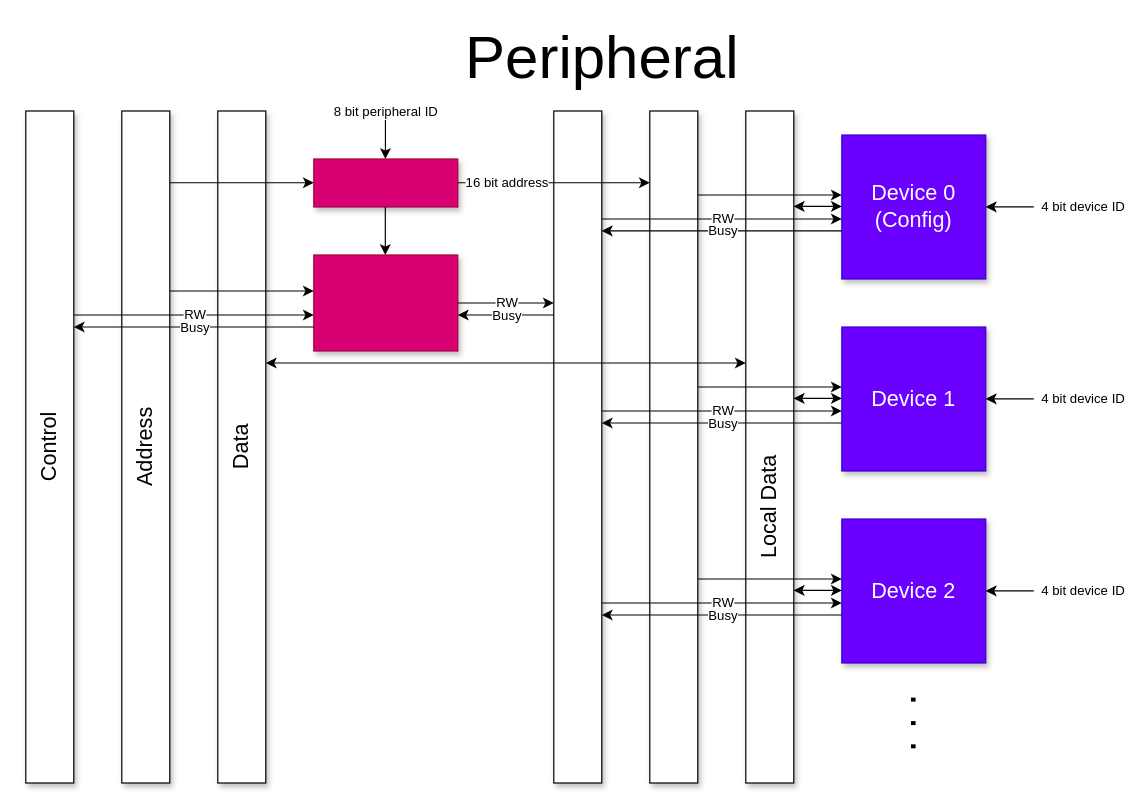
Some shapes in this 1145 by 812 pixel diagram are drawn without their labels. The centre of each missing label's shape, as x and y in pixels:
"Local Address" belongs at point (674, 448).
"Local Control" belongs at point (578, 448).
"Peripheral Control" belongs at point (386, 304).
"Peripheral Select" belongs at point (386, 184).
